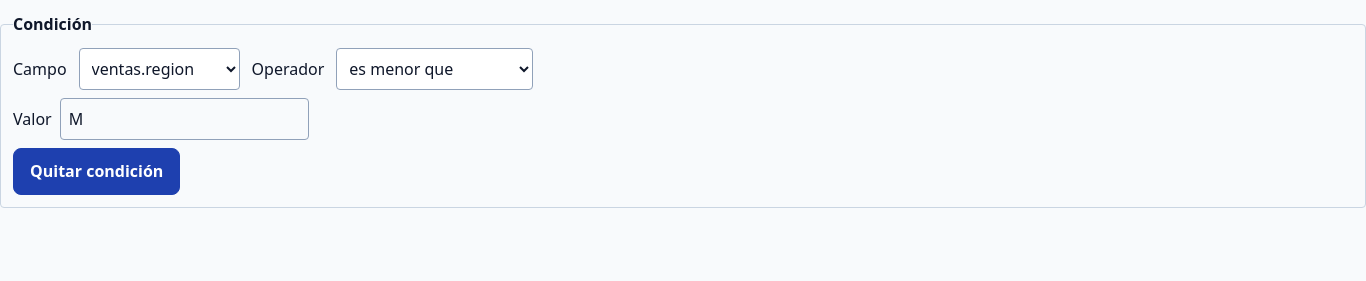
editing never loses nor replaces intent › an operator the new field does not admit is shown, not replaced
This screenshot has width=1366, height=281.
Select "ventas.activo" in the dropdown labelled "Campo" at [159, 69], box [79, 48, 240, 90]
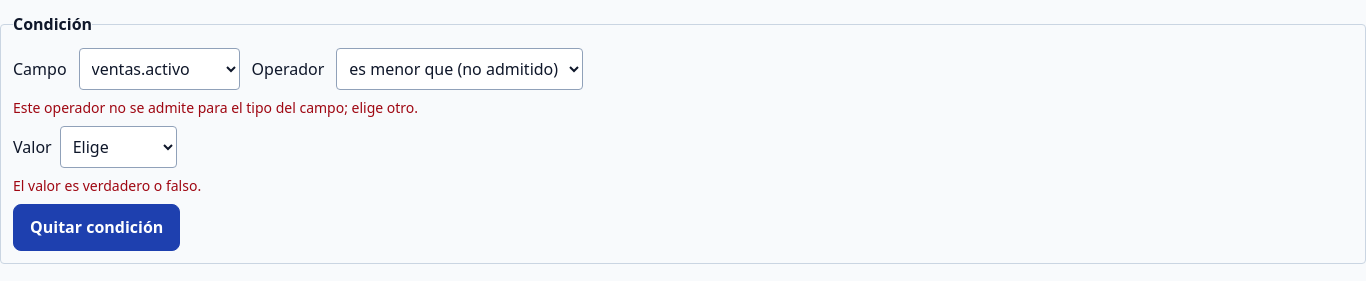
Expected: the dropdown labelled "Operador" shows "es menor que (no admitido)", [336, 48, 583, 90]
Expected: the text "no se admite" is shown, [13, 98, 418, 117]
